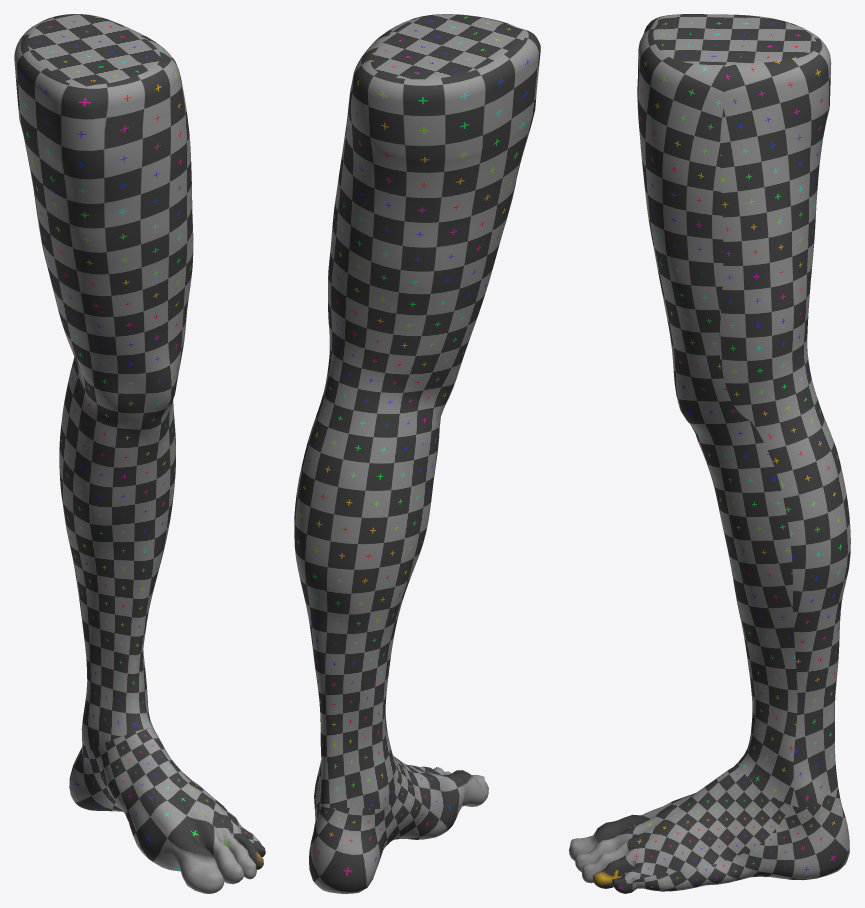
The model's file is leg_left.glb.
3 renders of one model, left to right at view 1: azimuth 30°, elevation 25°; view 2: azimuth 150°, elevation 25°; view 3: azimuth 270°, elevation 25°, orthographic. The views are drawn at different scales.
Parts seen in each view (by area): view 1: FinalBaseMesh.004; view 2: FinalBaseMesh.004; view 3: FinalBaseMesh.004.
Part boxes in pixels (x1,y1,x2,y2): FinalBaseMesh.004: (14,14,265,893); FinalBaseMesh.004: (294,14,540,893); FinalBaseMesh.004: (569,14,850,893).
Bounding box in the file's own units: 2.52 × 10.62 × 3.38.
1 material, 1 textured.
